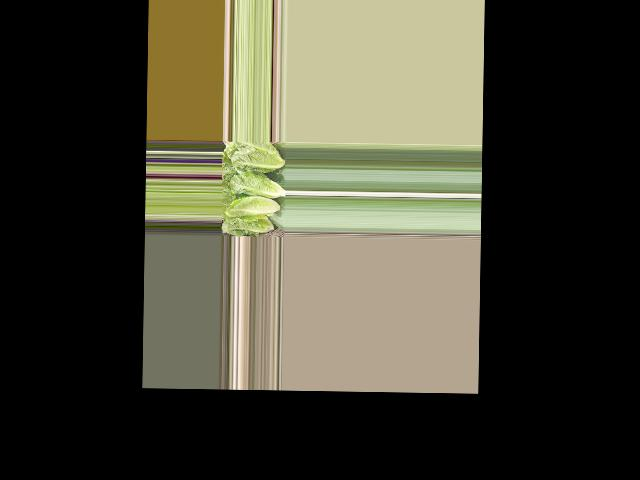lettuce: (221, 216, 272, 232)
